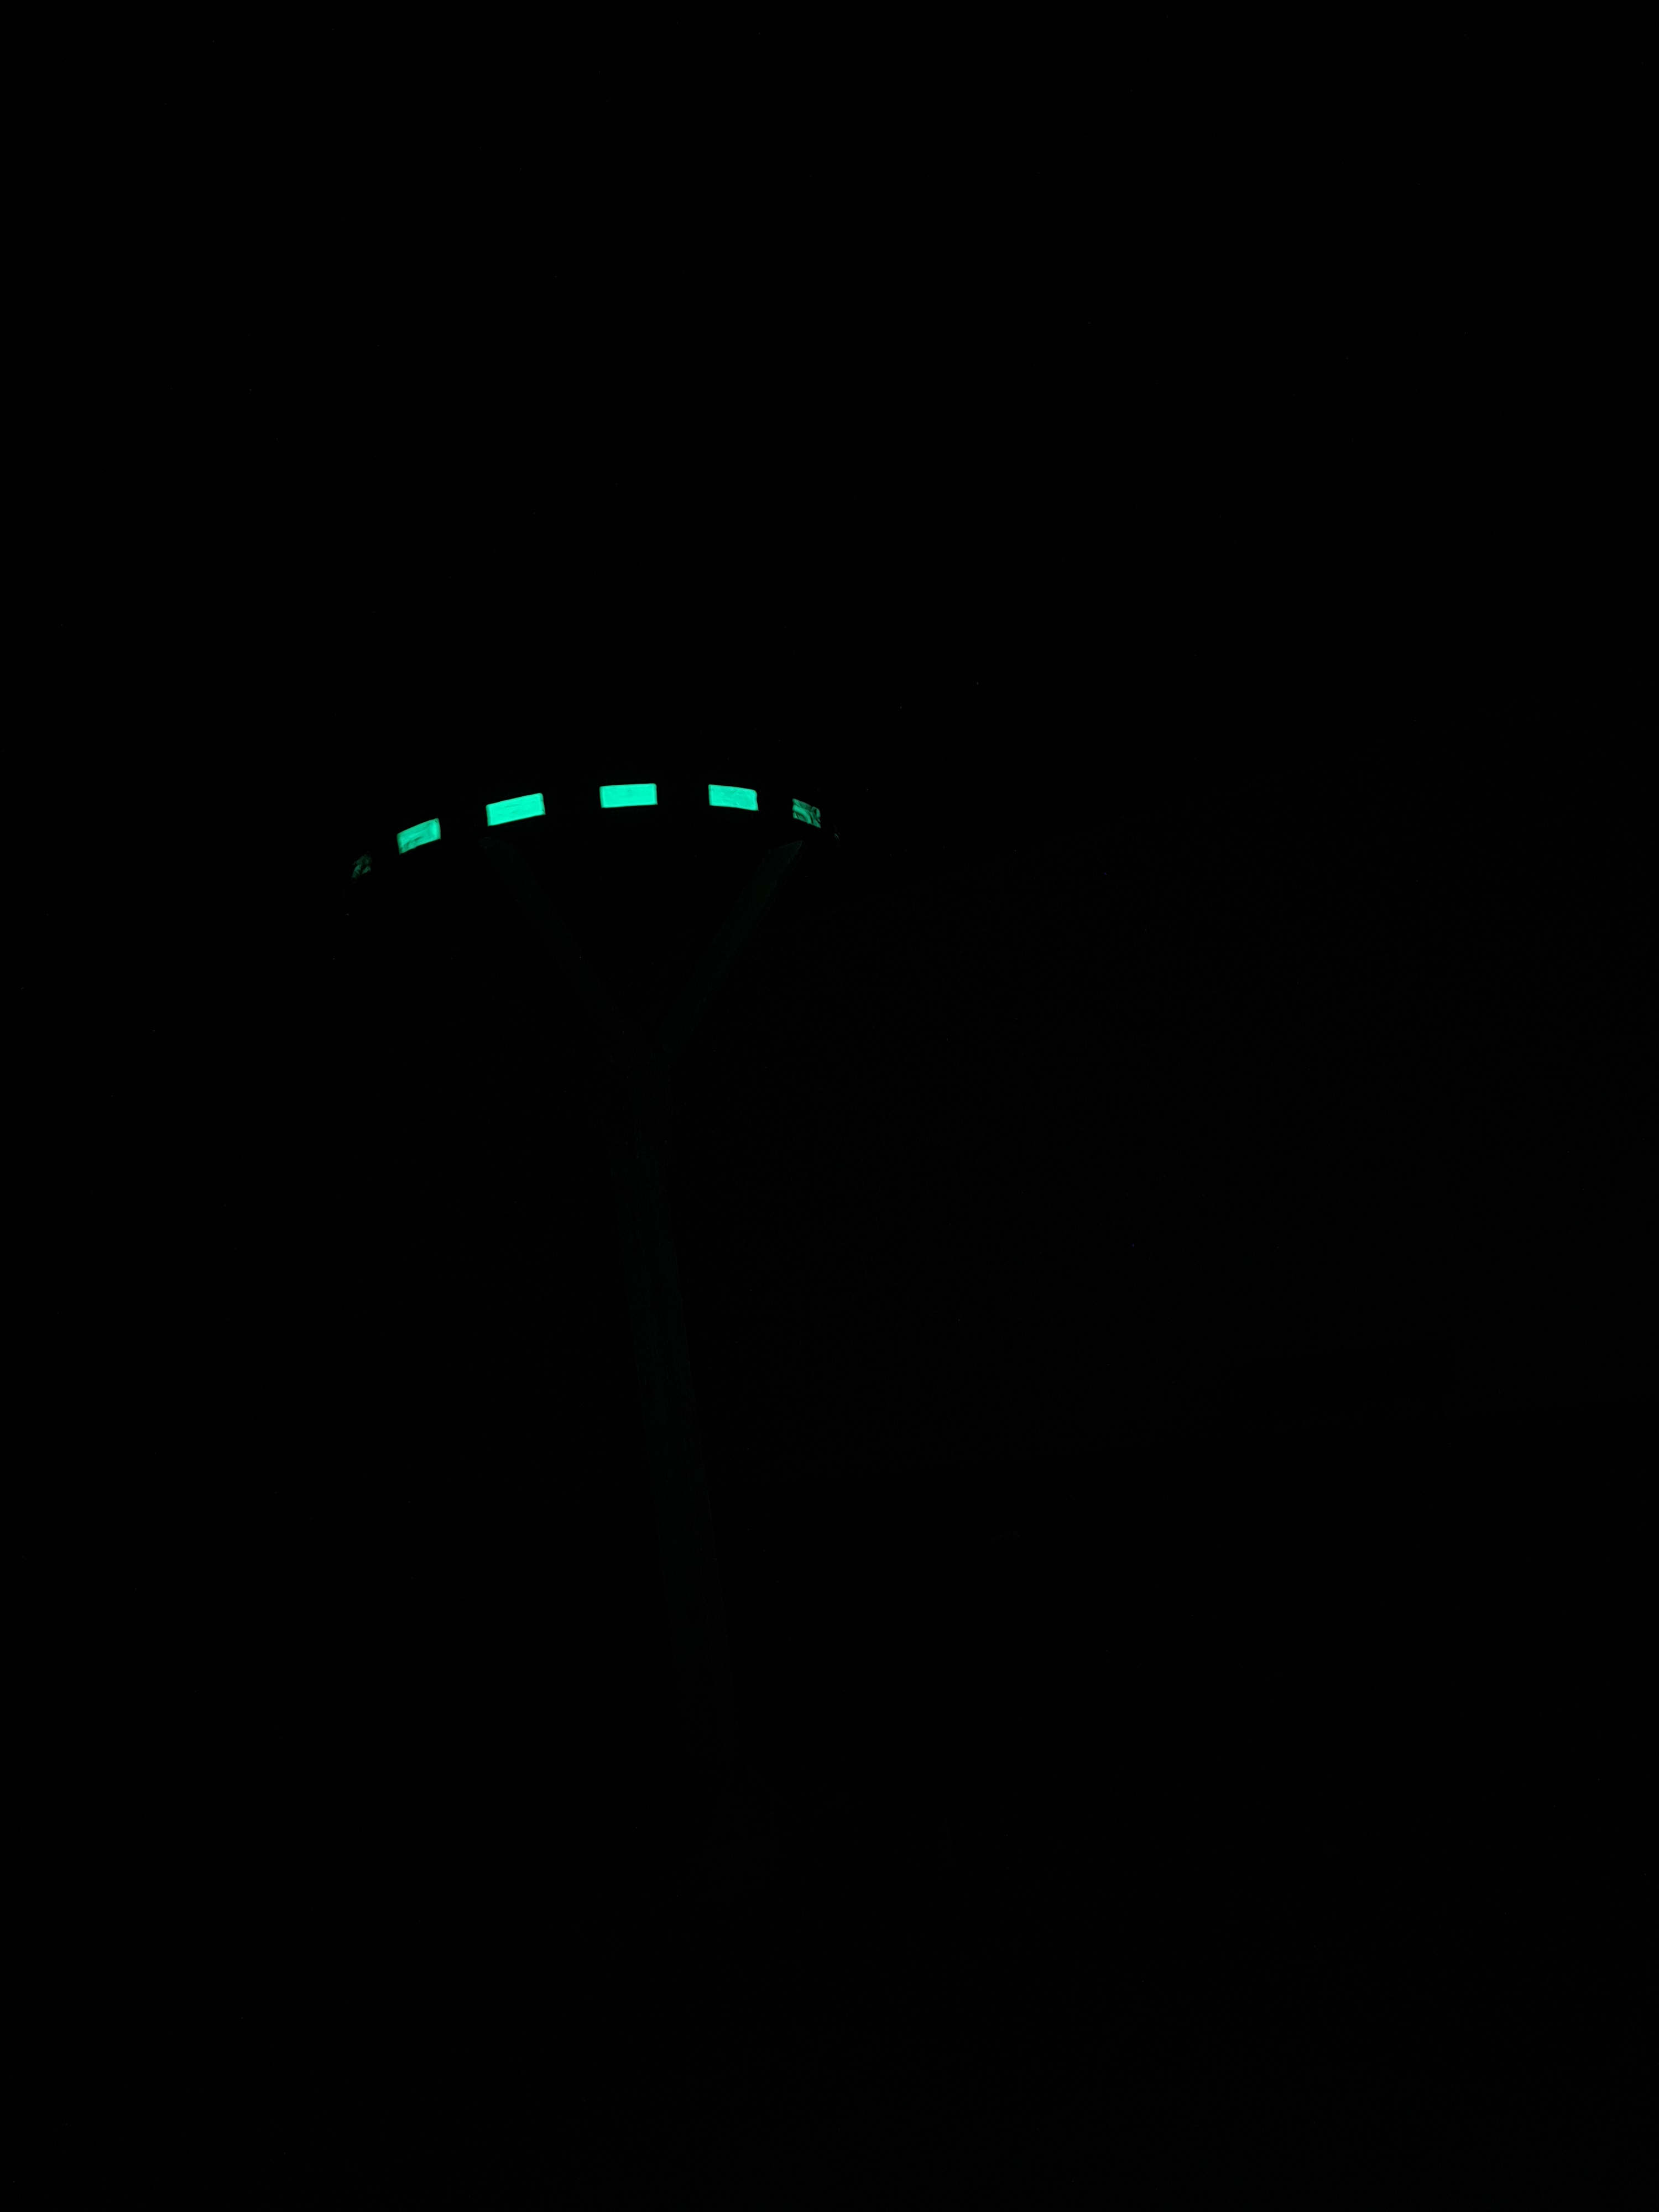hoop: (324, 770, 836, 878)
